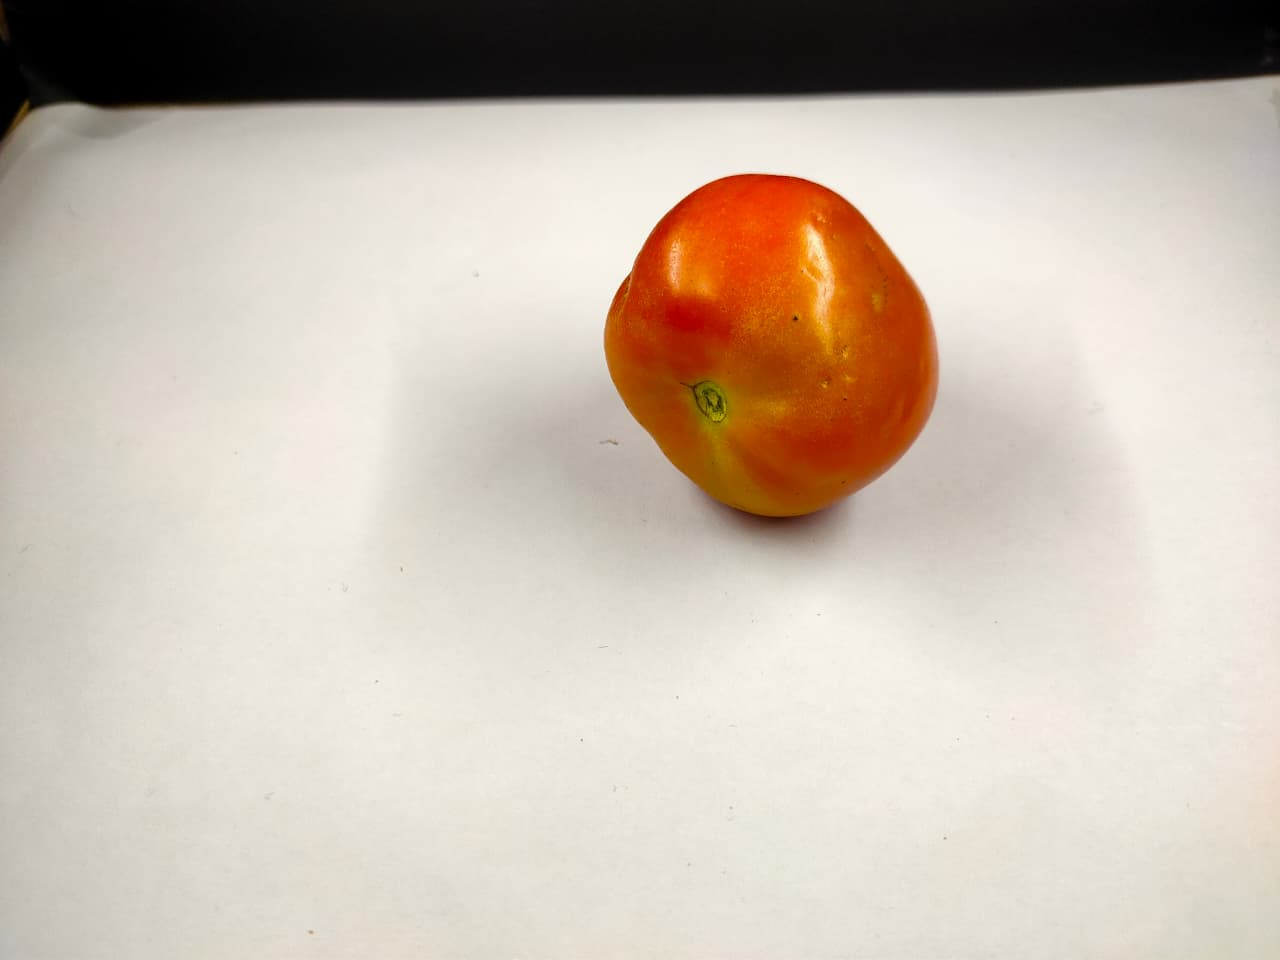unripe: (606, 160, 961, 541)
